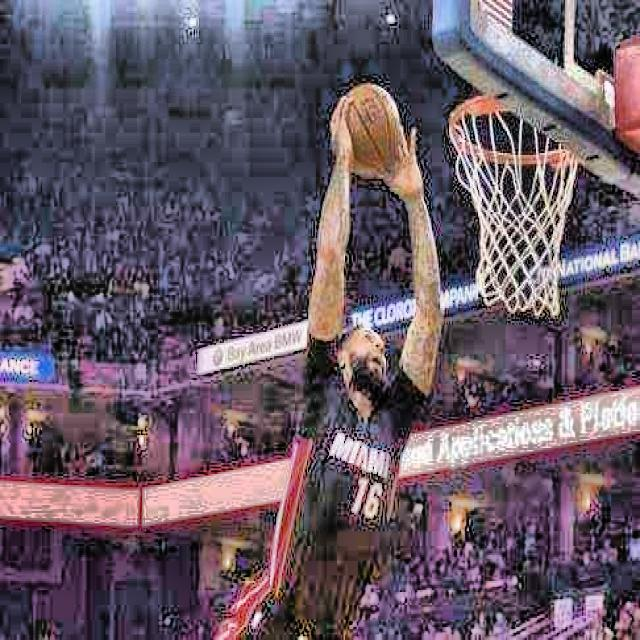board: (349, 85, 402, 168)
rim: (448, 94, 578, 315)
